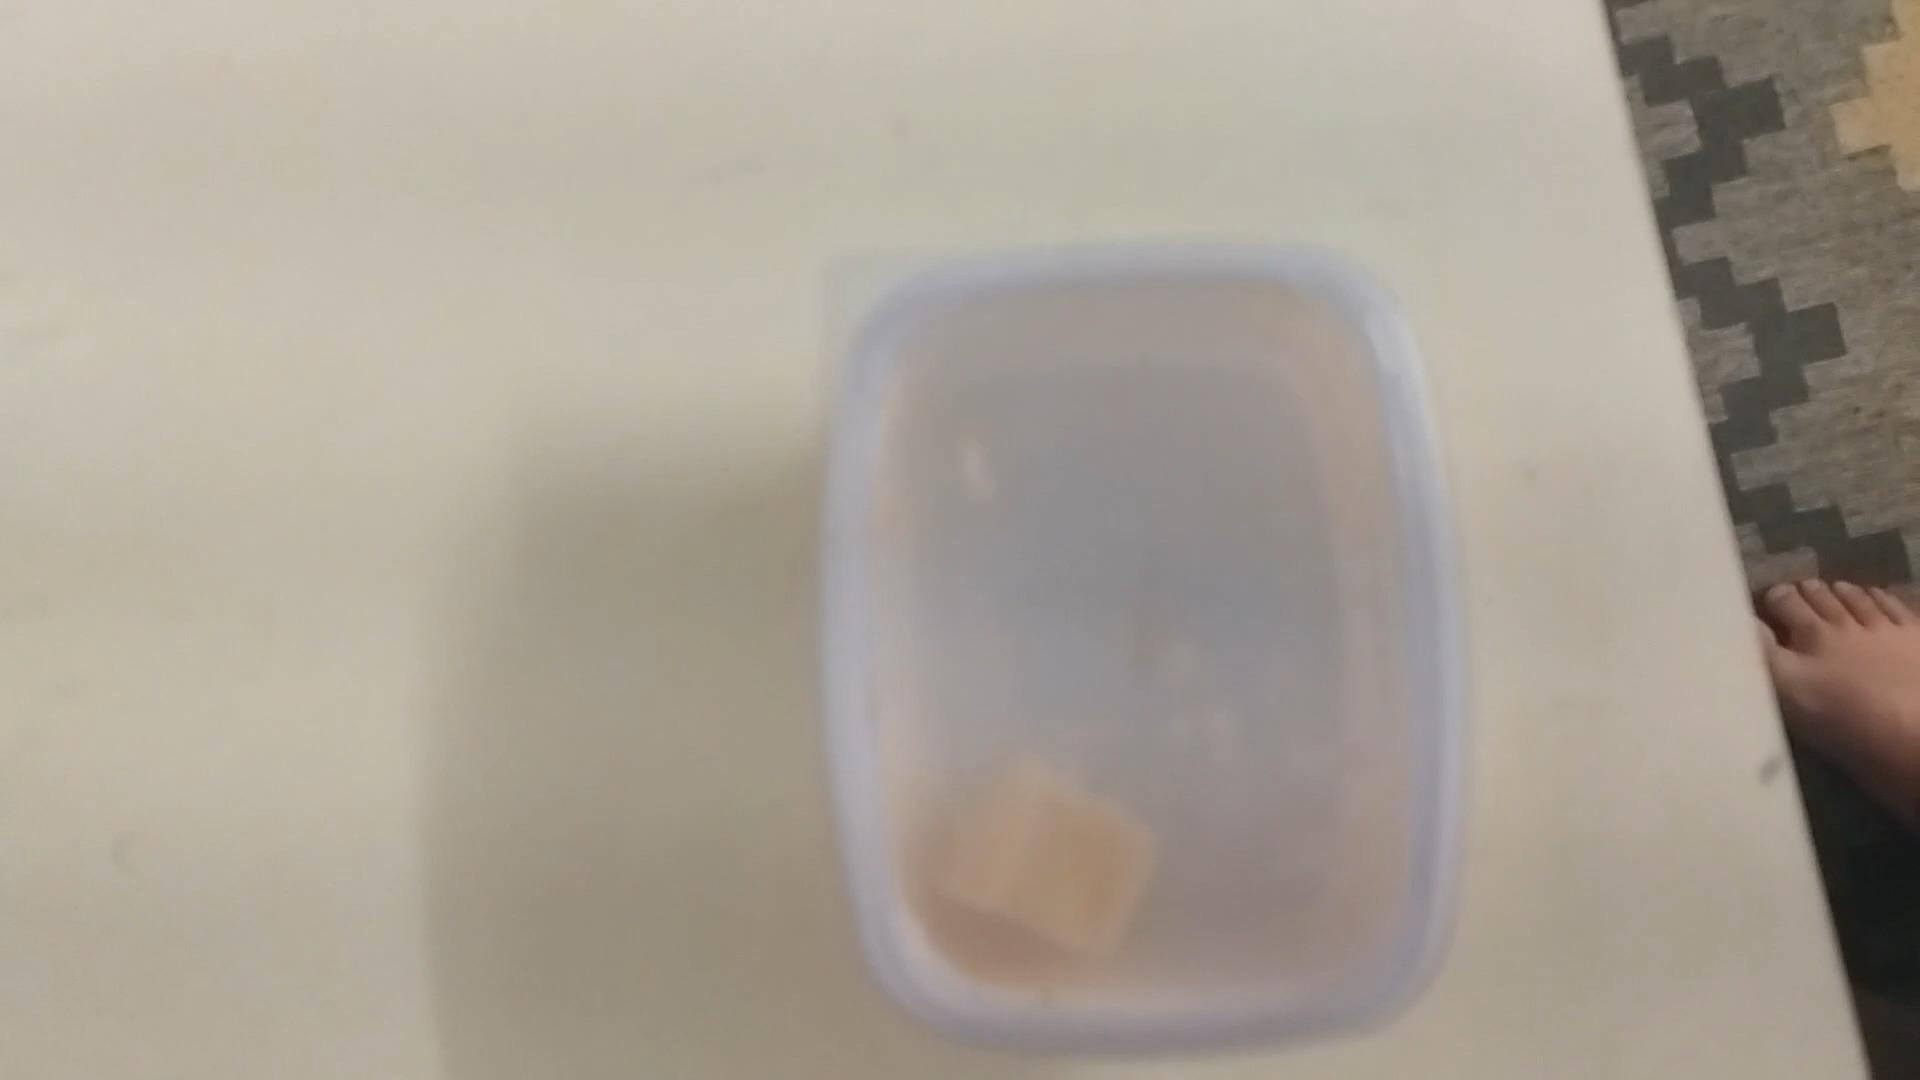butter: (825, 252, 1460, 1067)
